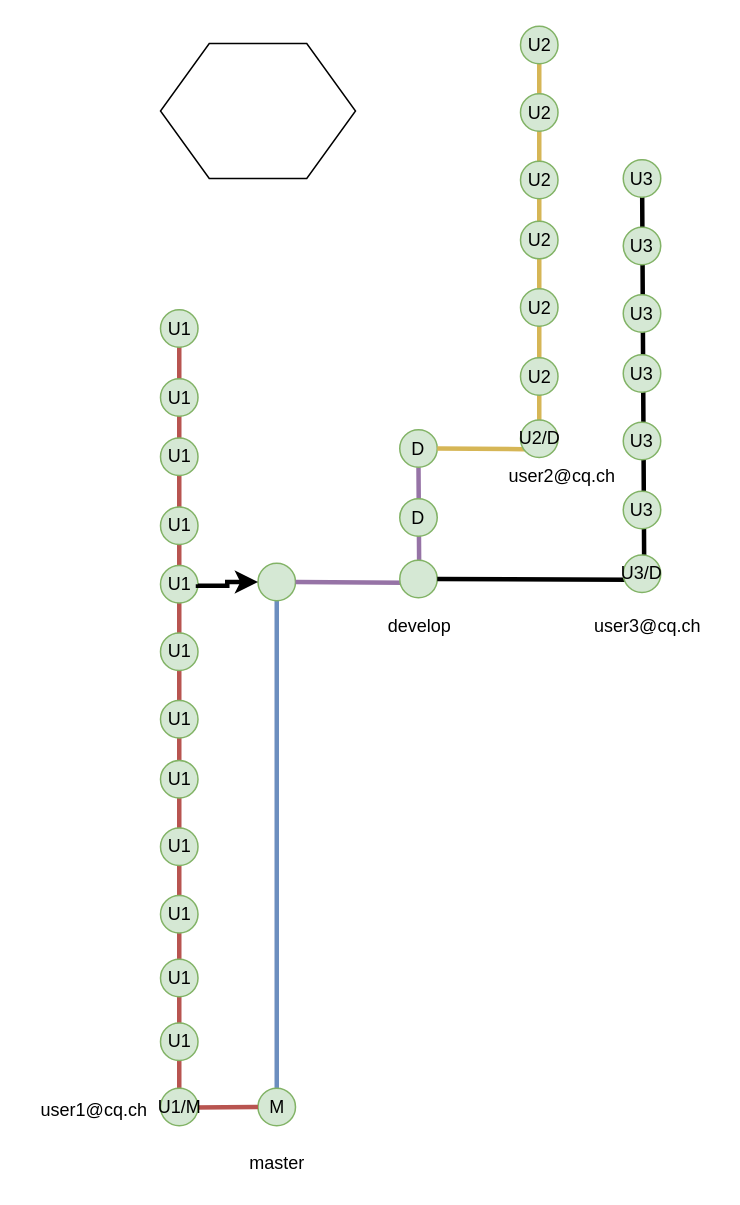
This 740x1205 diagram has some shape labels left out. The shapes that lost their labels are listed below. From the top down, each one's centre as x and y in pixels, then its label:
At (257,110): "Teammates: 1) user1@cq.ch 2) user2@cq.ch 3) user3@cq.ch".
At (276,581): "M/U1".
At (417,578): "D/M".
